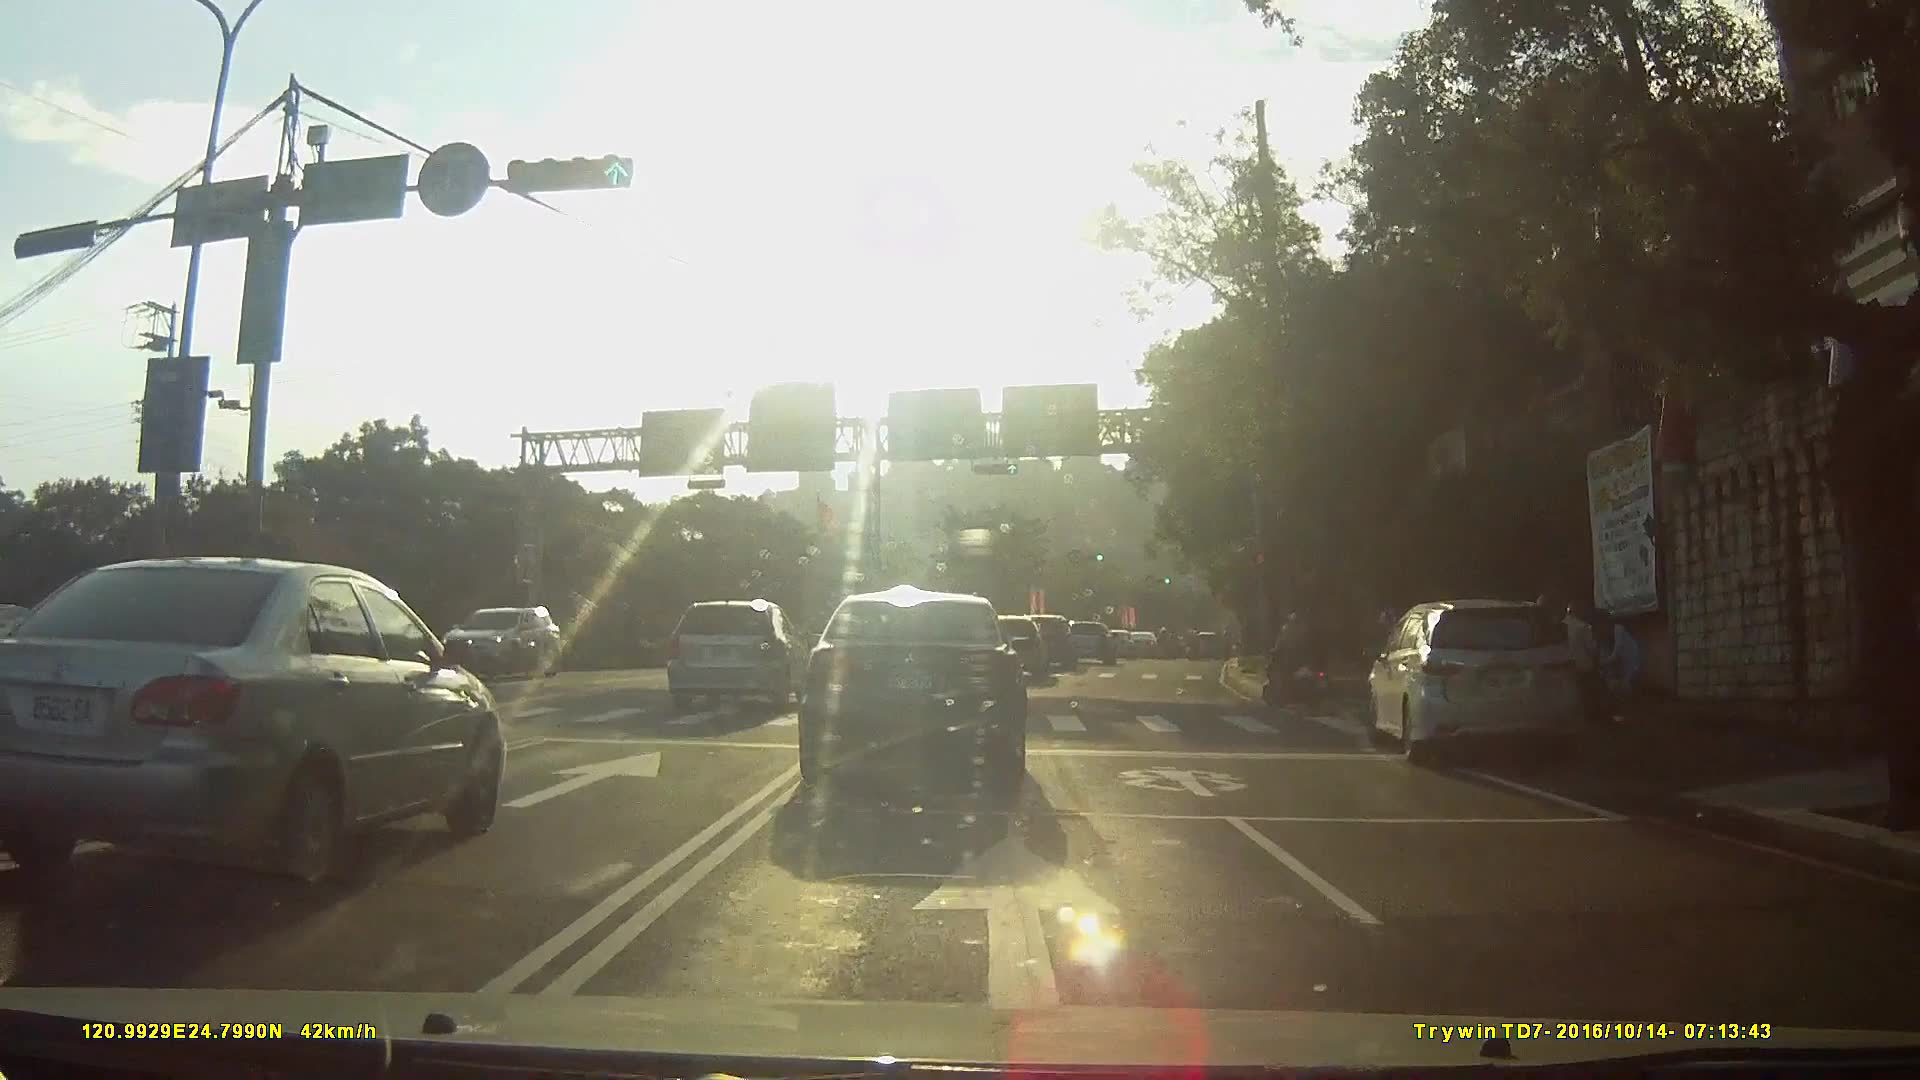pedestrian: (1590, 606, 1648, 706), (1572, 602, 1603, 725)
rider: (1256, 610, 1334, 707)
vehicle: (0, 554, 515, 897), (787, 594, 1055, 814), (1355, 599, 1602, 782), (195, 586, 416, 767), (668, 595, 818, 713), (431, 597, 575, 682), (991, 617, 1065, 687), (1024, 612, 1086, 670), (1072, 620, 1126, 666), (1106, 628, 1145, 660), (1132, 631, 1164, 659)
